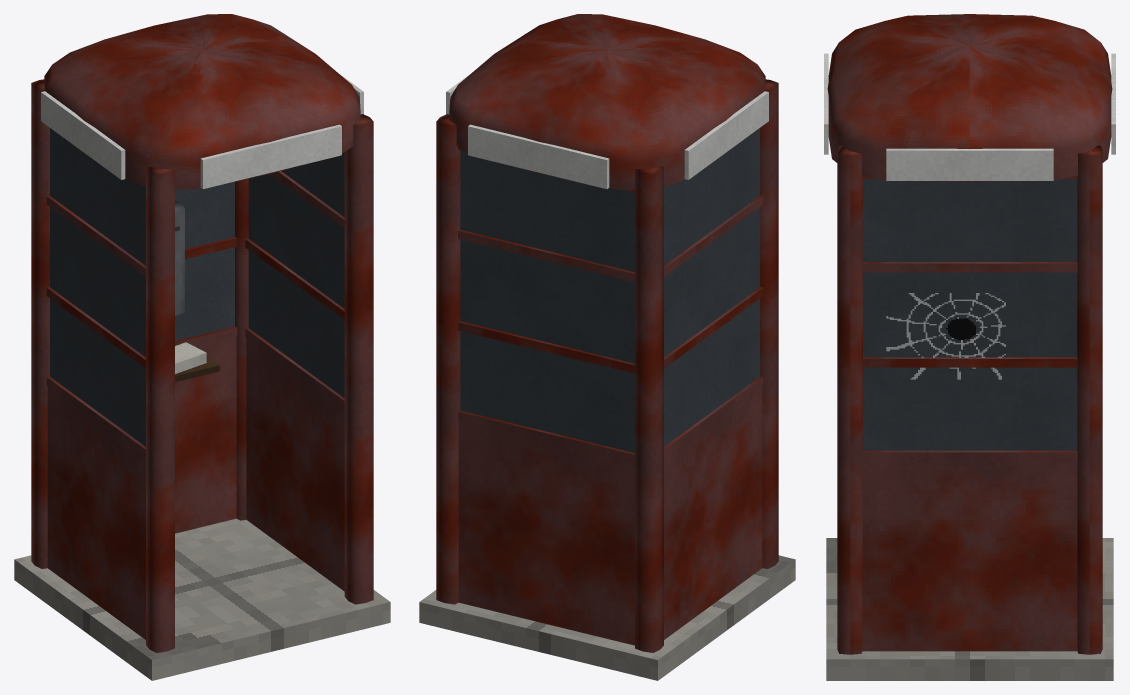
File: ext_phone_booth.glb
3 views of the same model, side by side, from view 1: azimuth 30°, elevation 25°; view 2: azimuth 150°, elevation 25°; view 3: azimuth 270°, elevation 25° (orthographic). The views are drawn at different scales.
Parts seen in each view (by area): view 1: booth-col, detail; view 2: detail, booth-col; view 3: detail, booth-col.
Boxes of the visible parts, box(x1,y1,x2,y2) form: booth-col: box(14, 79, 390, 680); detail: box(41, 14, 363, 457); detail: box(446, 14, 768, 462); booth-col: box(419, 79, 795, 680); detail: box(824, 14, 1115, 460); booth-col: box(826, 145, 1113, 680).
Size of the model in its own units: 1.22 by 2.65 by 1.22.
10 materials, 10 textured.
